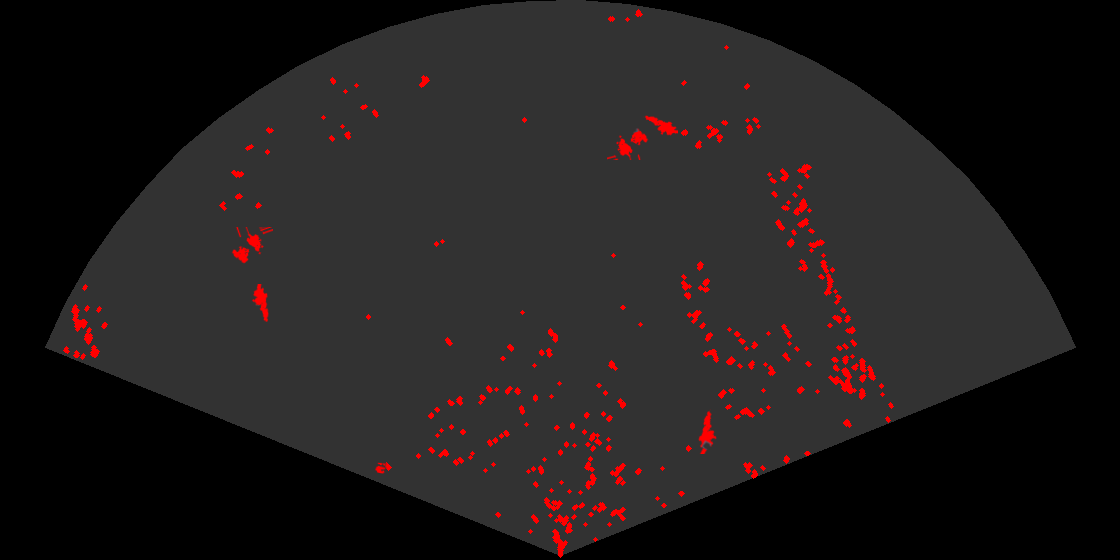ball: (374, 461, 387, 475)
cage: (230, 227, 273, 265), (607, 127, 650, 160)
frogman: (697, 409, 718, 454), (643, 114, 678, 137), (250, 284, 270, 322)
